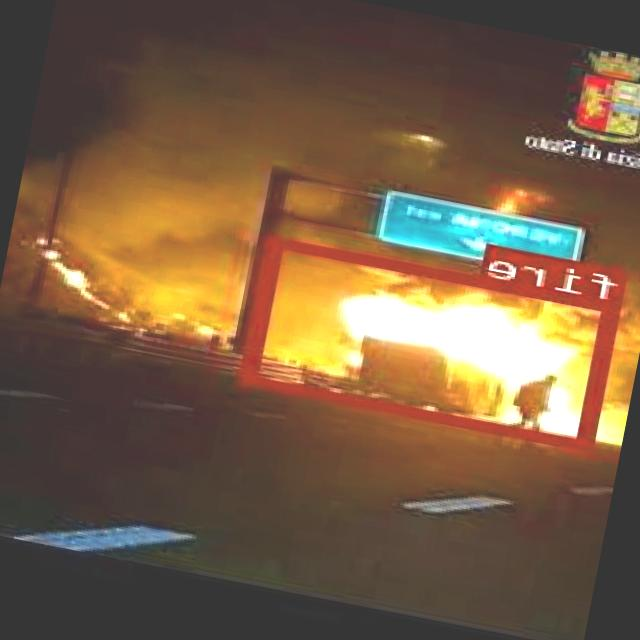fire: (244, 235, 623, 450)
